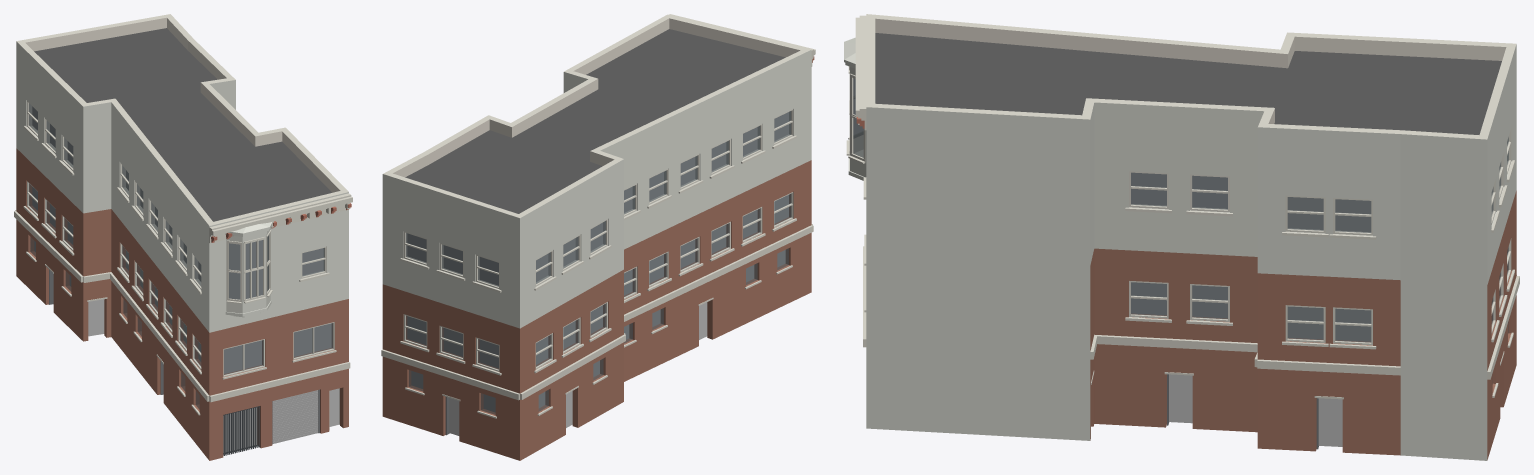
The model's file is exterior.glb.
3 views of the same model, side by side, from view 1: azimuth 30°, elevation 25°; view 2: azimuth 150°, elevation 25°; view 3: azimuth 270°, elevation 25° (orthographic). The views are drawn at different scales.
Visible parts, largest first — view 1: shell, roof, trim, shadow-proxy, glazing, storefront, frames, bay-glazing-hyb, bay-windows-hyb; view 2: shell, roof, glazing, shadow-proxy, trim, frames; view 3: shell, roof, shadow-proxy, glazing, trim, frames, bay-glazing-hyb, bay-windows-hyb.
Part boxes in pixels (x1,y1,x2,y2): shell: [16, 14, 348, 460]; roof: [34, 28, 331, 221]; trim: [14, 126, 352, 415]; shadow-proxy: [32, 107, 339, 452]; glazing: [29, 103, 332, 409]; storefront: [45, 264, 329, 455]; frames: [27, 101, 334, 376]; bay-glazing-hyb: [226, 230, 272, 303]; bay-windows-hyb: [225, 222, 272, 317]; shell: [382, 14, 811, 460]; roof: [405, 29, 785, 213]; glazing: [406, 111, 790, 414]; shadow-proxy: [407, 112, 788, 435]; trim: [381, 14, 815, 418]; frames: [403, 109, 793, 371]; shell: [866, 14, 1516, 460]; roof: [875, 33, 1501, 134]; shadow-proxy: [1131, 173, 1370, 446]; glazing: [1131, 137, 1508, 342]; trim: [855, 15, 1519, 397]; frames: [1129, 129, 1511, 345]; bay-glazing-hyb: [846, 66, 865, 163]; bay-windows-hyb: [844, 37, 866, 180].
Bounding box in the file's own units: 11.19 × 13.2 × 25.15.
